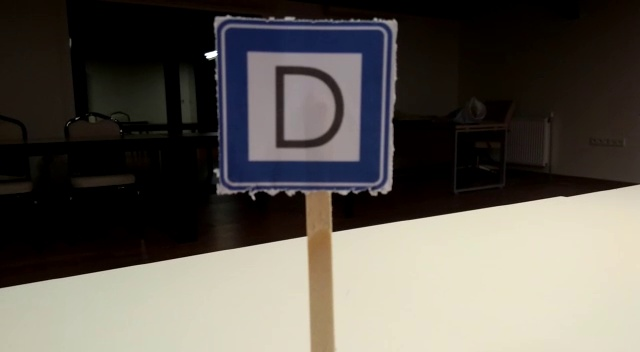durak: (218, 19, 393, 191)
